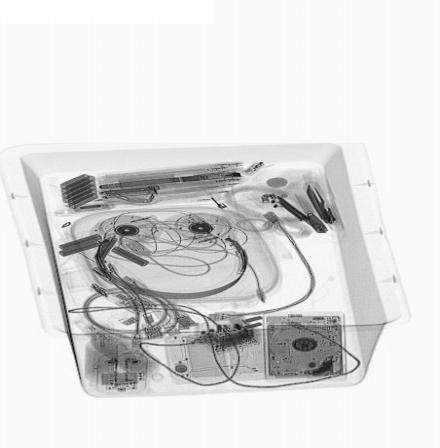Knife: (307, 184, 342, 224)
